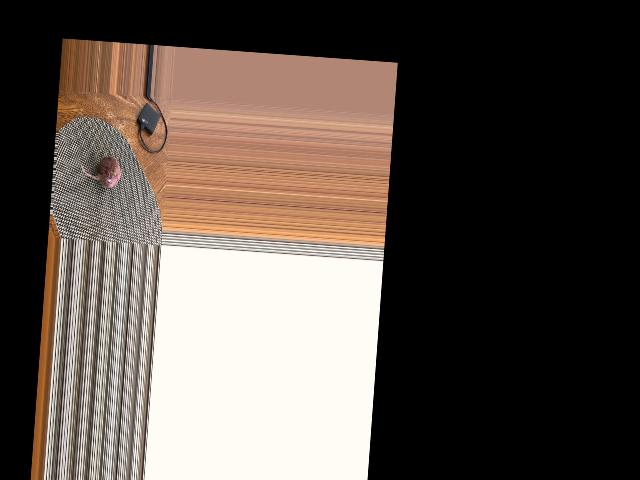beet: (78, 154, 121, 188)
